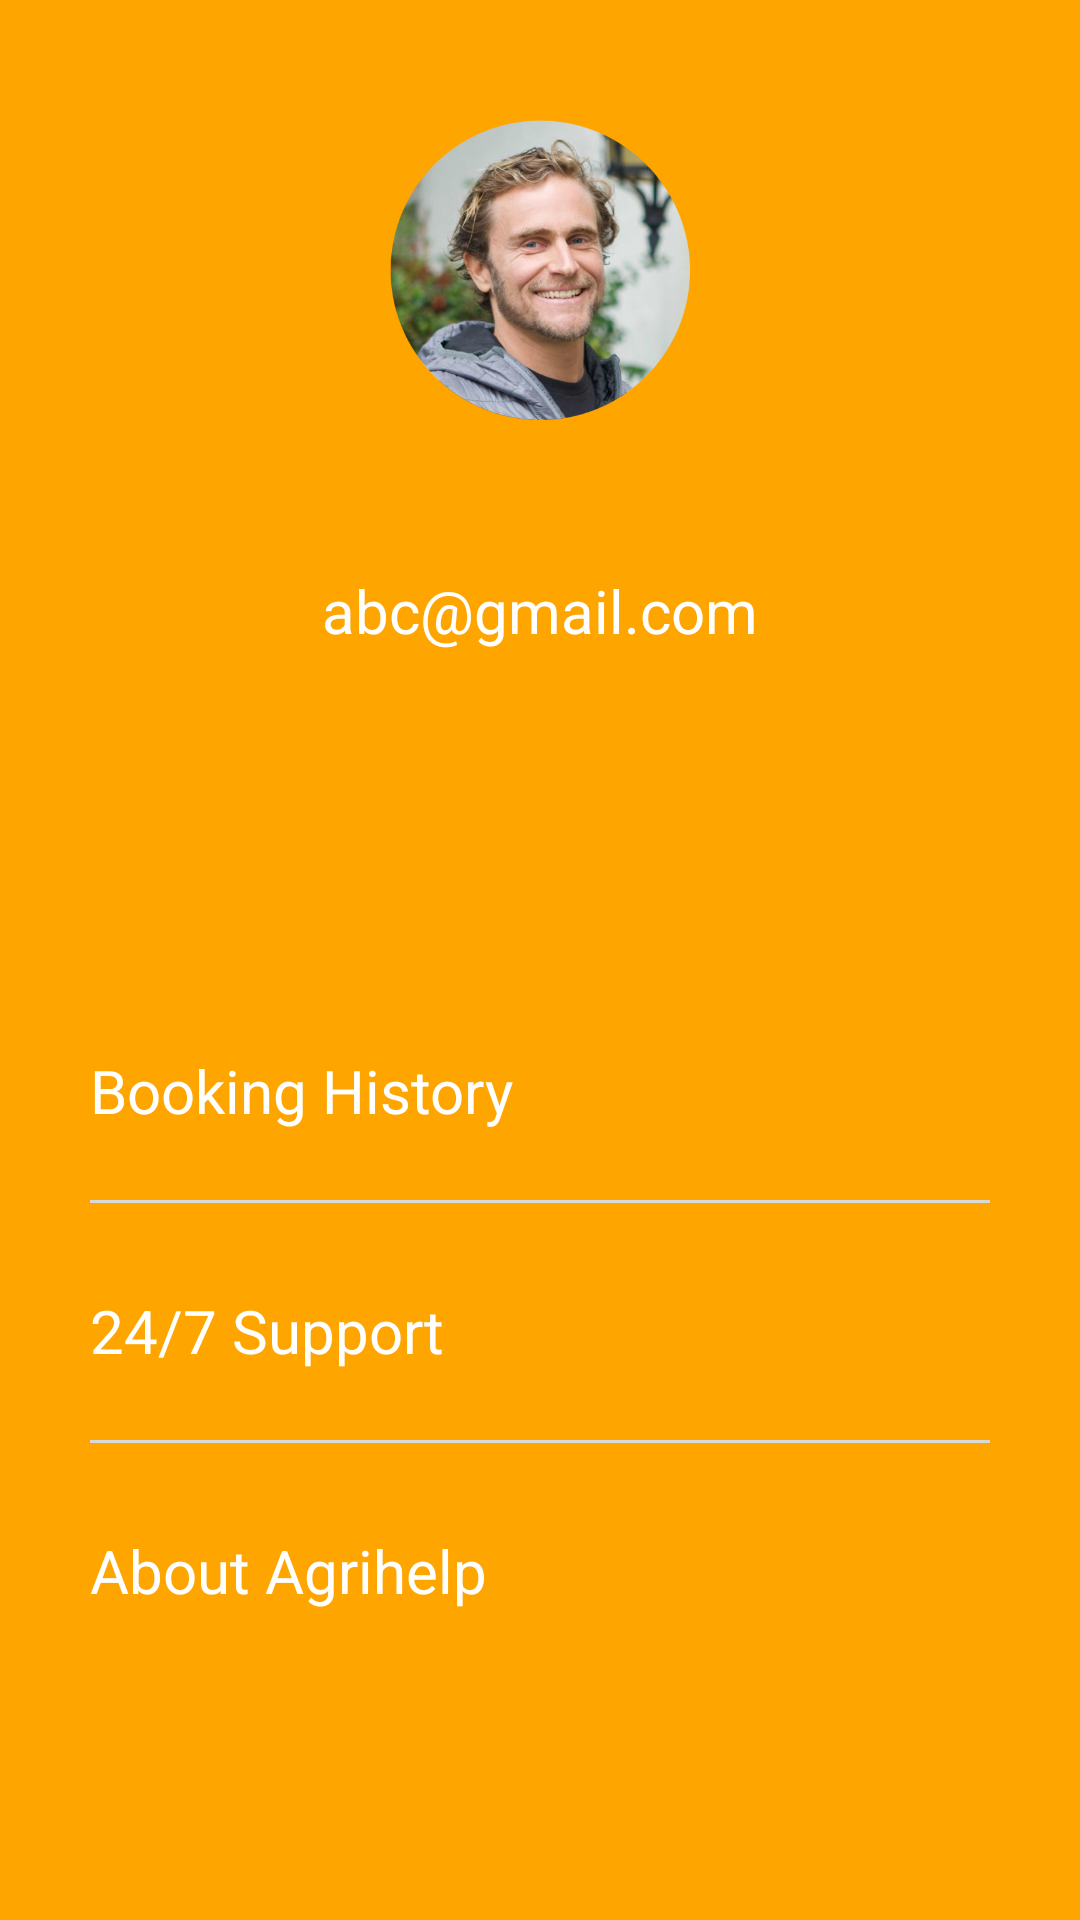

Screen size 1080 × 1920. Icon name, then its center in pixels as (x=x, y=y):
profile: (x=540, y=270)
